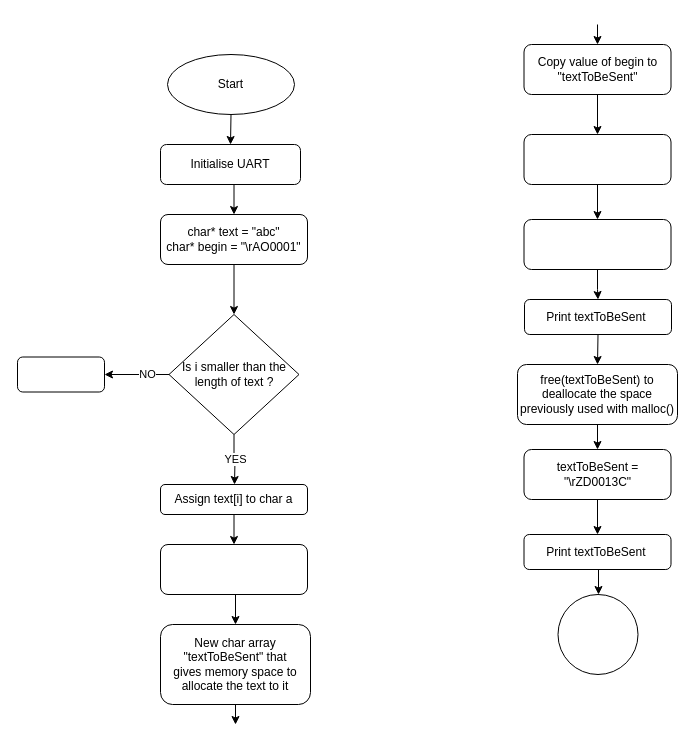
Some shapes in this 695 by 750 pixel diagram are drawn without their labels. Here are the shapes that lost their labels. From the top down, the centre of each, then its label:
At (597,159): "Adding a at the end of the array".
At (597,244): "Add +1 to the array for '\0' ( the end of a string )".
At (60,374): "Return 0".
At (234,569): "Take length of begin and put it on len of type size_t".
At (597,634): "Delay (4 seconds)".
